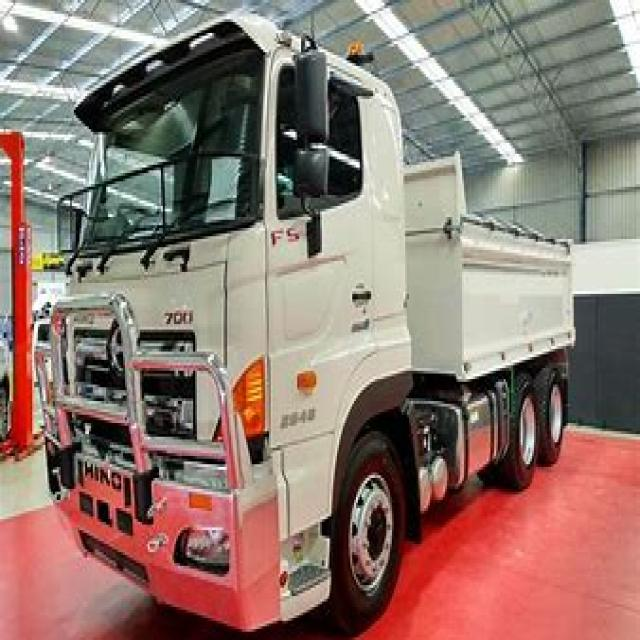dump_truck: (49, 22, 580, 637)
